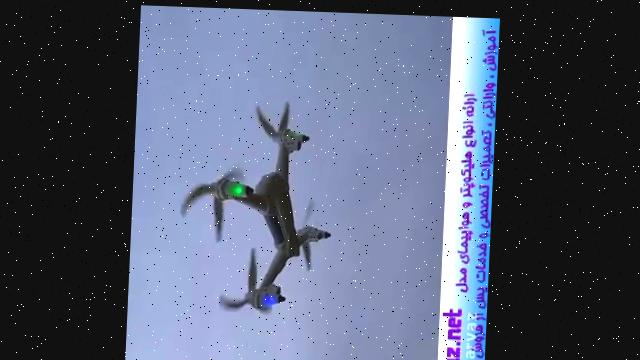drone: (173, 94, 339, 319)
